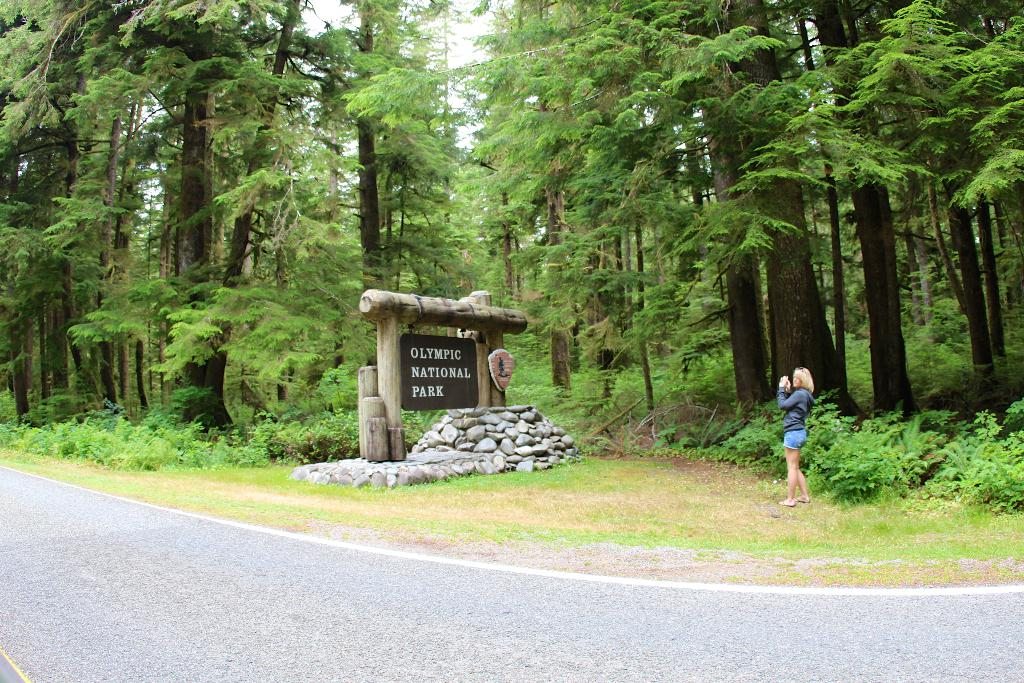Tree: (469, 0, 1023, 420), (0, 0, 477, 438)
